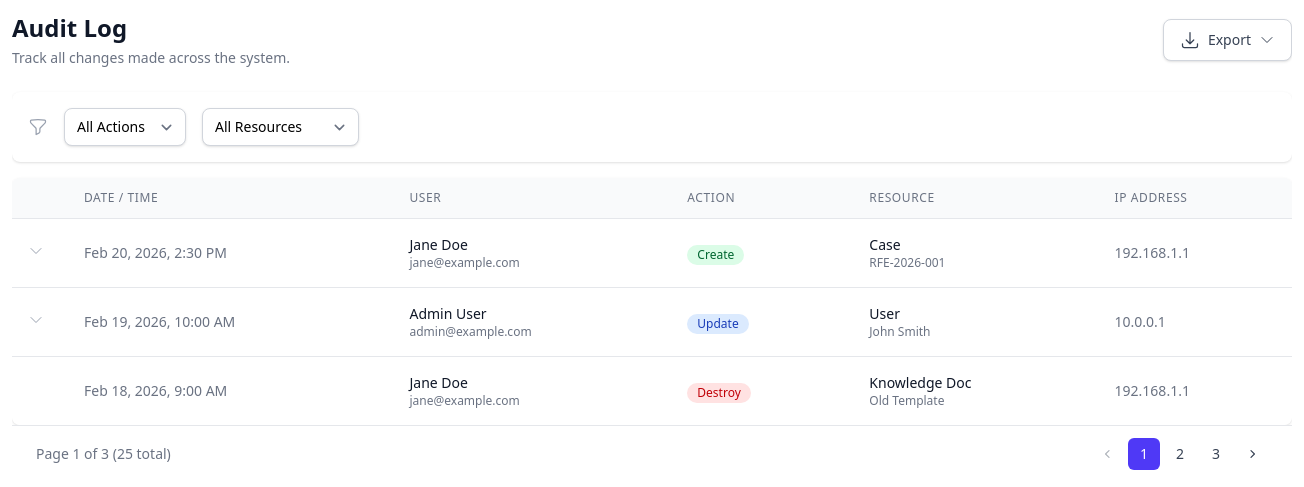
Test: AuditLogView › shows export dropdown with CSV and PDF options
The width and height of the screenshot is (1304, 487).
# Click export button to show dropdown
Click the button "Export". click: (1227, 40)
box: [1163,19,1292,61]
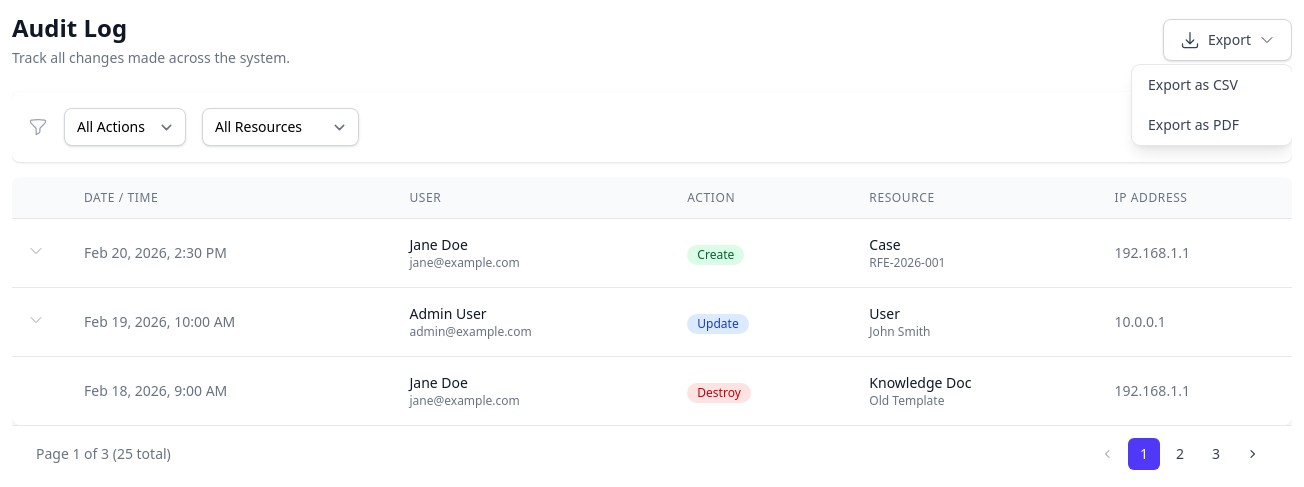
Now the text "Export as CSV" is shown, box [1132,65,1292,105]
Now the text "Export as PDF" is shown, box [1132,105,1292,145]
